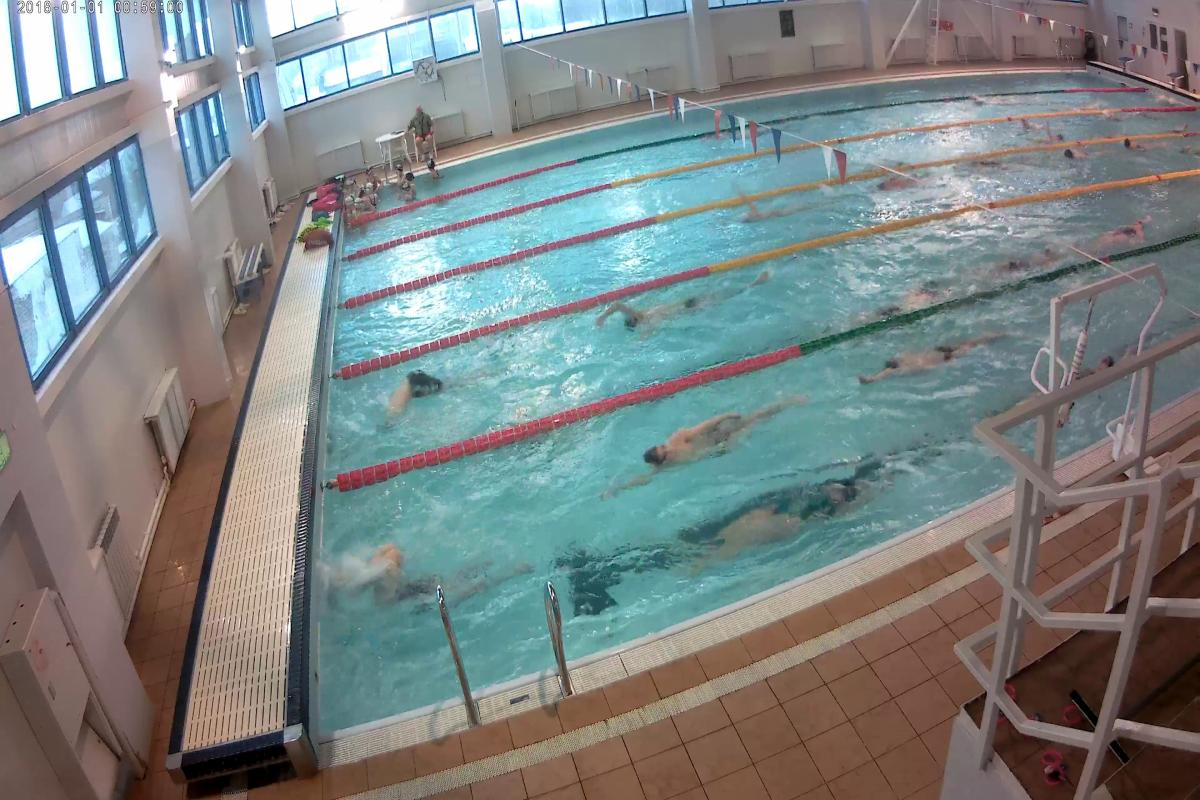swimmer: (696, 479, 861, 574), (626, 399, 794, 487), (858, 333, 995, 391), (378, 371, 474, 434), (359, 548, 460, 603), (601, 285, 770, 315), (841, 286, 962, 322), (1086, 209, 1154, 254), (986, 241, 1069, 276)
